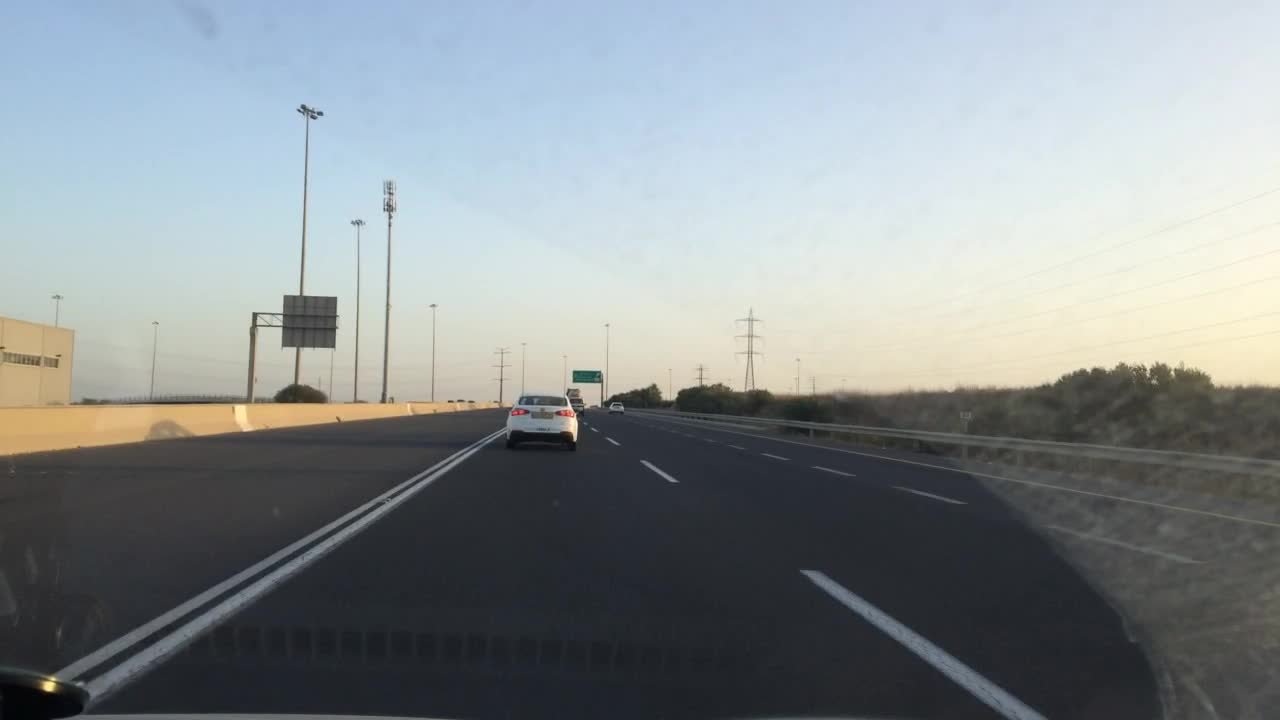car: (503, 395, 579, 454), (565, 396, 589, 418), (604, 396, 624, 417)
traffic sign: (280, 295, 337, 346), (568, 368, 602, 385)
